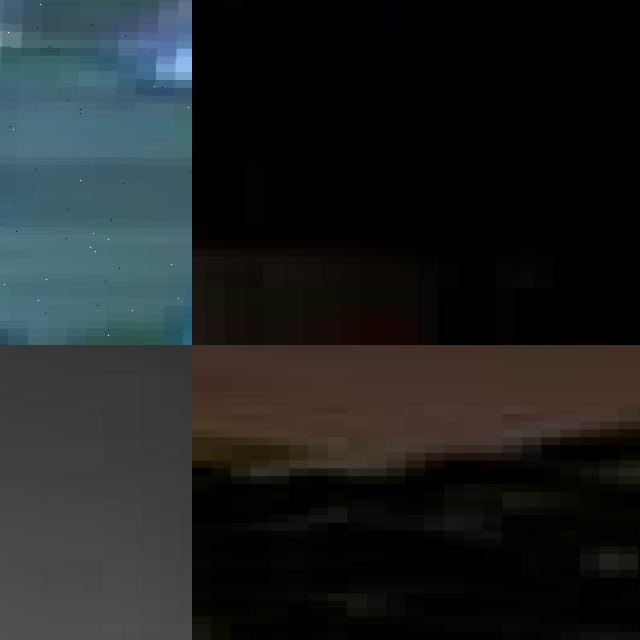street light: (0, 0, 192, 345)
